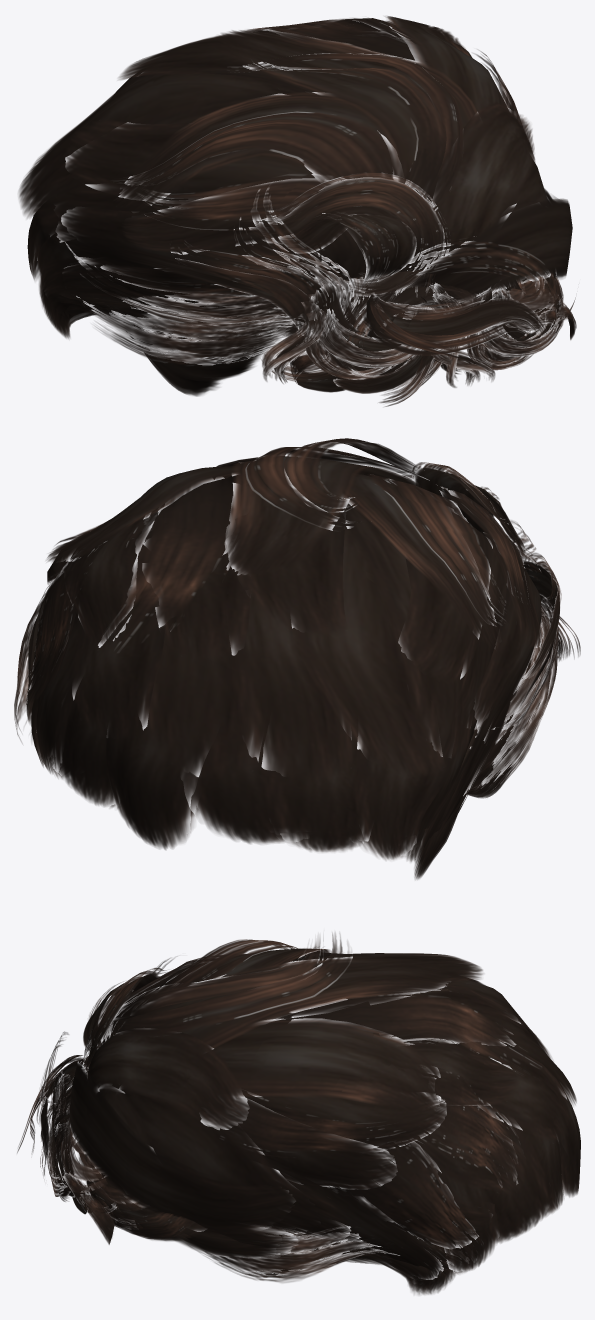
File: diamond_wavy_03 TexturedWavestrii.glb
3 views of the same model, one above another, from view 1: azimuth 30°, elevation 25°; view 2: azimuth 150°, elevation 25°; view 3: azimuth 270°, elevation 25° (orthographic). The views are drawn at different scales.
Visible parts, largest first — view 1: FRENCH CROP.001; view 2: FRENCH CROP.001; view 3: FRENCH CROP.001.
Part boxes in pixels (x1=…): FRENCH CROP.001: x1=19, y1=16, x2=576, y2=406; FRENCH CROP.001: x1=14, y1=438, x2=580, y2=879; FRENCH CROP.001: x1=17, y1=932, x2=580, y2=1294.
Size of the model in its own units: 0.2104 by 0.1472 by 0.2577.
1 material, 1 textured.
